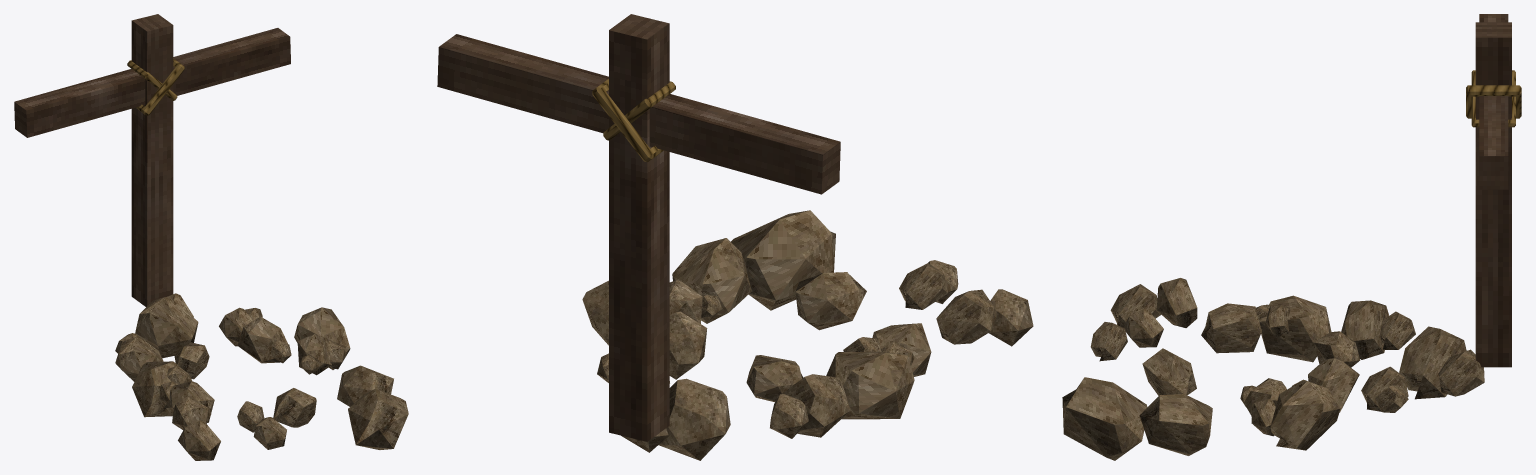
File: Grave.fbx
The picture shows the model from 3 angles, left to right: view 1: azimuth 30°, elevation 25°; view 2: azimuth 150°, elevation 25°; view 3: azimuth 270°, elevation 25°; orthographic projection. The views are drawn at different scales.
Visible parts, largest first — view 1: Grave; view 2: Grave; view 3: Grave.
Boxes of the visible parts, x1,y1,x2,y2 form: Grave: [14, 14, 408, 460]; Grave: [437, 14, 1033, 460]; Grave: [1062, 14, 1521, 460].
Size of the model in its own units: 251 by 297 by 316.
3 materials, 3 textured.
